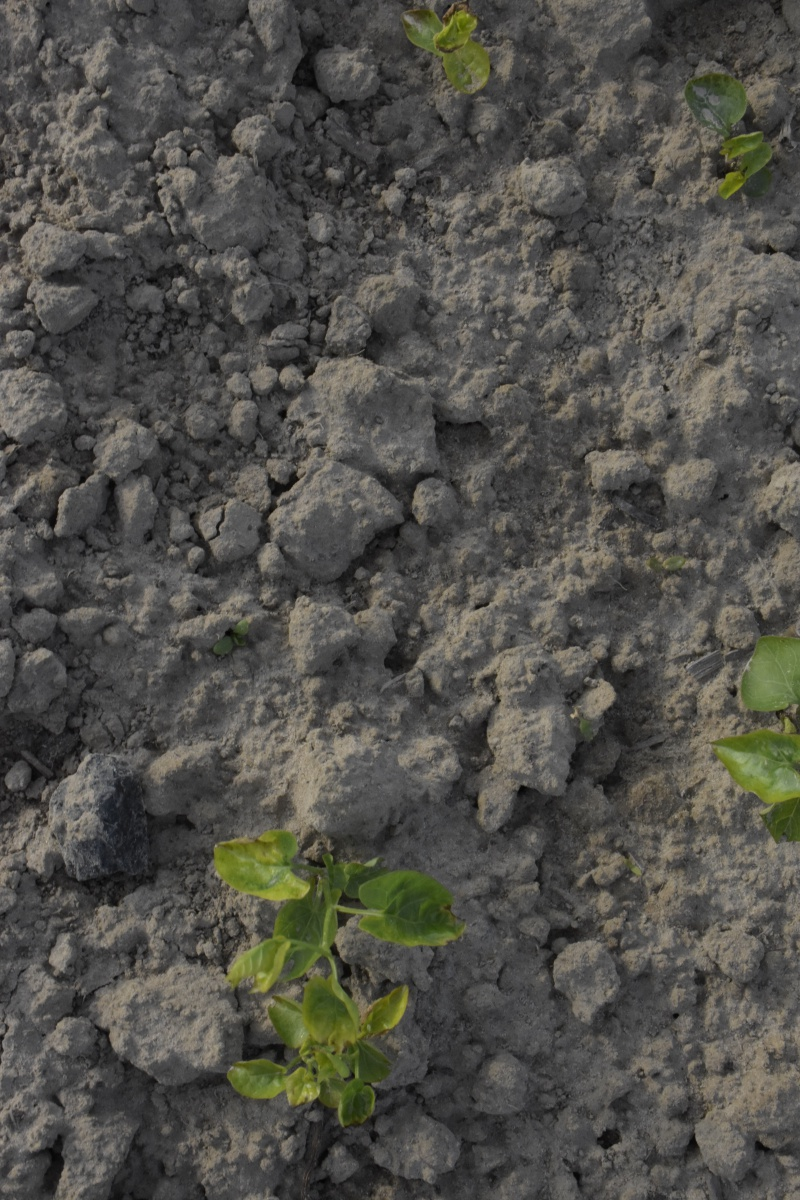field bindweed: (205, 831, 457, 1131), (686, 63, 780, 217), (726, 635, 800, 810), (404, 2, 502, 103)
